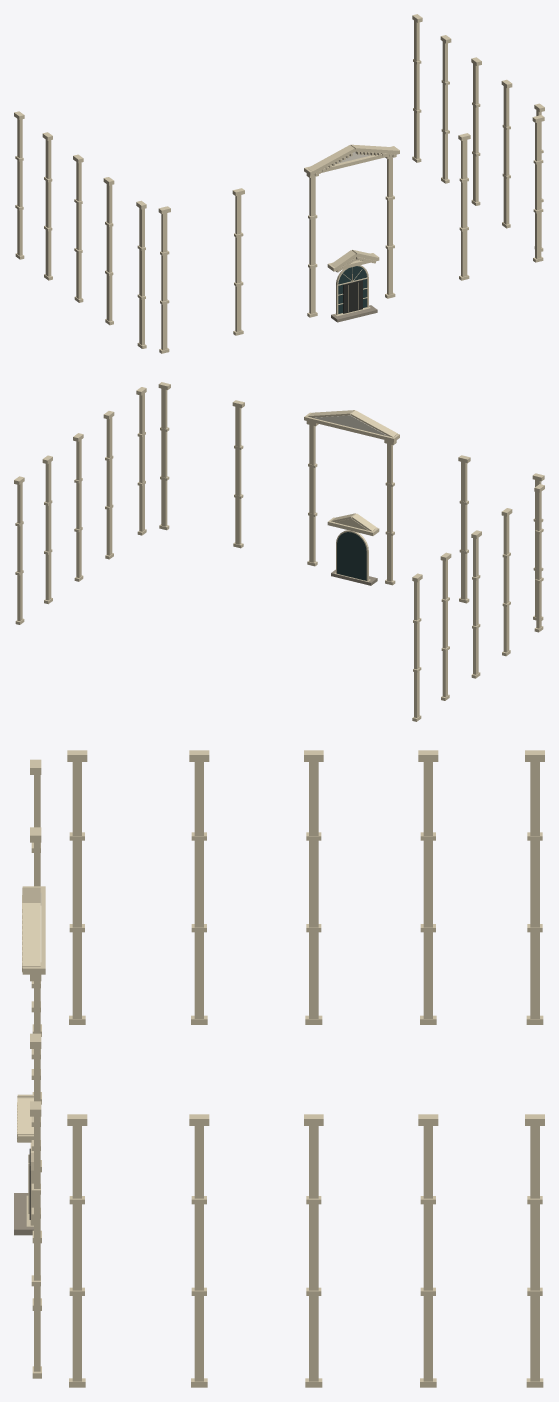
The model's file is KOL_T1_TOWN_HALL__10_Rear_Architecture.fbx.
3 renders of one model, top to bottom at view 1: azimuth 30°, elevation 25°; view 2: azimuth 150°, elevation 25°; view 3: azimuth 270°, elevation 25°, orthographic. The views are drawn at different scales.
Visible parts, largest first — view 1: KOL_T1_TOWN_HALL__10_Rear_Architecture__KOL_T1_HeritageCream, KOL_T1_TOWN_HALL__10_Rear_Architecture__KOL_T1_HeritageDark, KOL_T1_TOWN_HALL__10_Rear_Architecture__KOL_T1_HeritageGlass; view 2: KOL_T1_TOWN_HALL__10_Rear_Architecture__KOL_T1_HeritageCream, KOL_T1_TOWN_HALL__10_Rear_Architecture__KOL_T1_HeritageGlass, KOL_T1_TOWN_HALL__10_Rear_Architecture__KOL_T1_HeritageWhite; view 3: KOL_T1_TOWN_HALL__10_Rear_Architecture__KOL_T1_HeritageCream.
Part boxes in pixels (<box>): KOL_T1_TOWN_HALL__10_Rear_Architecture__KOL_T1_HeritageCream: <box>14,14,544,353</box>; KOL_T1_TOWN_HALL__10_Rear_Architecture__KOL_T1_HeritageDark: <box>343,280,362,313</box>; KOL_T1_TOWN_HALL__10_Rear_Architecture__KOL_T1_HeritageGlass: <box>338,266,366,313</box>; KOL_T1_TOWN_HALL__10_Rear_Architecture__KOL_T1_HeritageCream: <box>14,382,544,721</box>; KOL_T1_TOWN_HALL__10_Rear_Architecture__KOL_T1_HeritageGlass: <box>337,532,366,580</box>; KOL_T1_TOWN_HALL__10_Rear_Architecture__KOL_T1_HeritageWhite: <box>312,415,387,436</box>; KOL_T1_TOWN_HALL__10_Rear_Architecture__KOL_T1_HeritageCream: <box>17,750,544,1387</box>.
Size of the model in its own units: 114 by 45.43 by 69.6.
